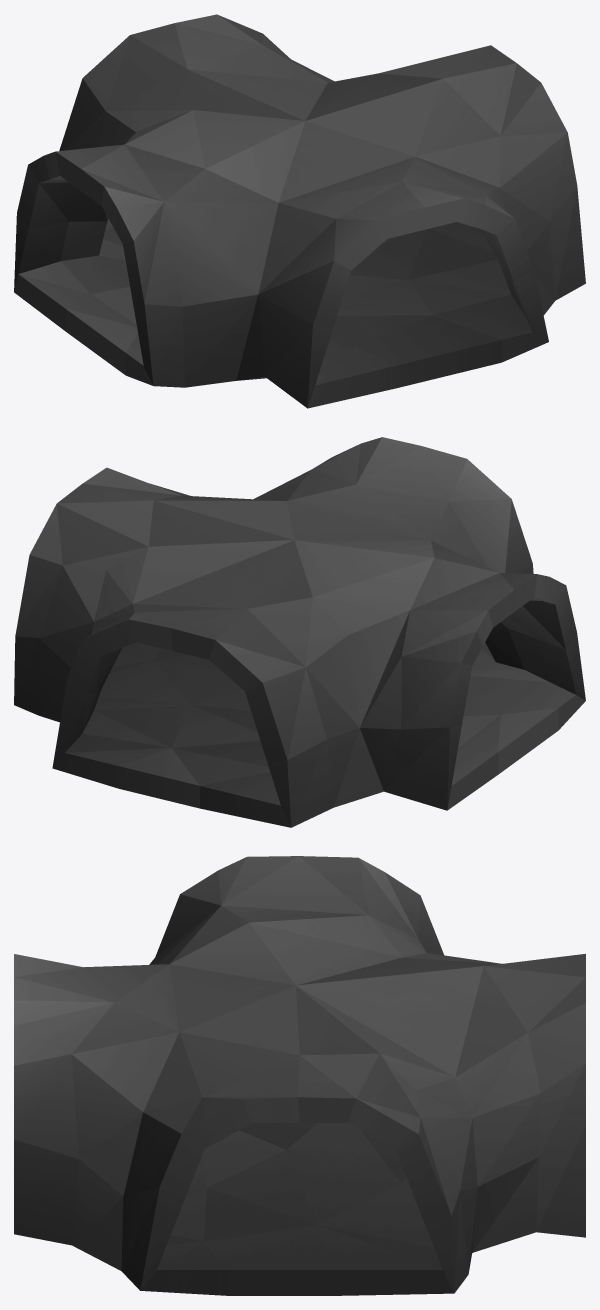
Rendered from GL-Cave-part-02-LOD2.fbx.
3 views of the same model, one above another, from view 1: azimuth 30°, elevation 25°; view 2: azimuth 150°, elevation 25°; view 3: azimuth 270°, elevation 25° (orthographic). The views are drawn at different scales.
Parts seen in each view (by area): view 1: GL_Cave_part_02; view 2: GL_Cave_part_02; view 3: GL_Cave_part_02.
Boxes of the visible parts, box(x1,y1,x2,y2) form: GL_Cave_part_02: box(14, 14, 585, 408); GL_Cave_part_02: box(14, 437, 585, 827); GL_Cave_part_02: box(14, 856, 585, 1295).
Size of the model in its own units: 6 by 2.32 by 6.
